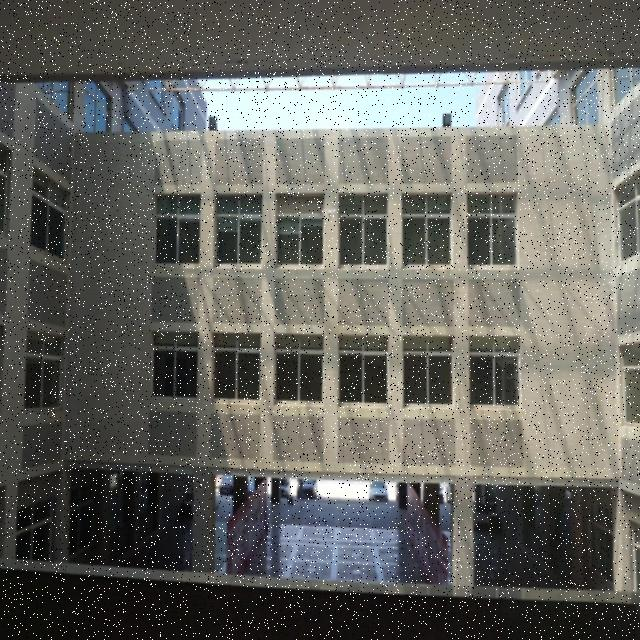UAV: (322, 208, 336, 220)
